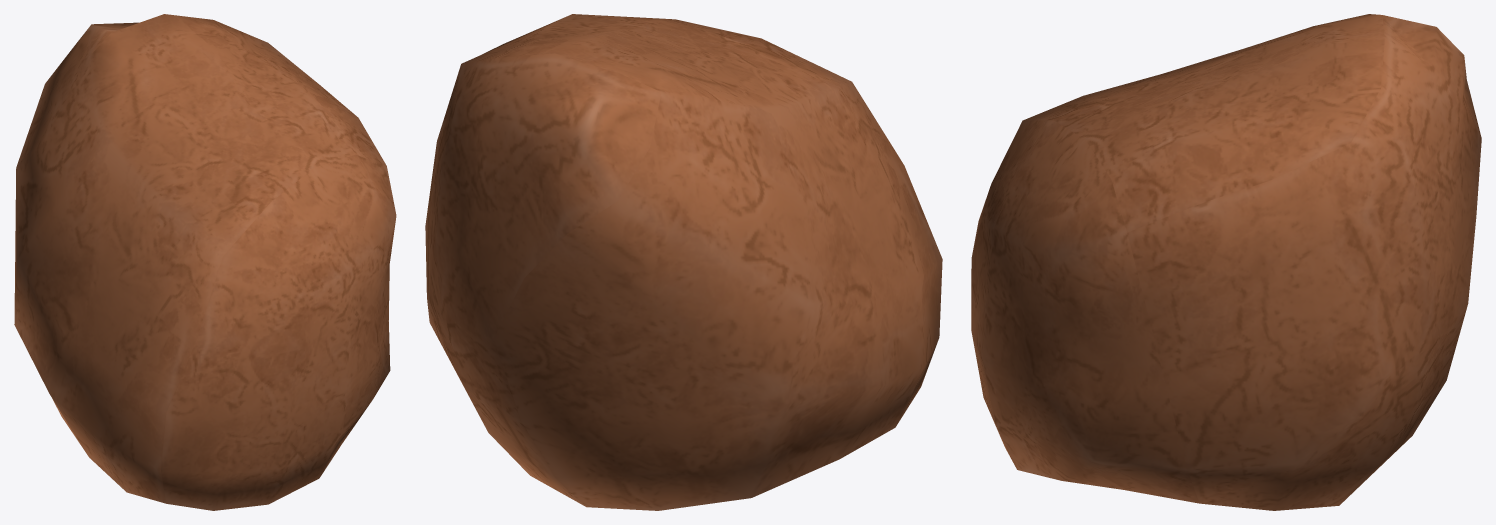
Rendered from ENV2110021.fbx.
The picture shows the model from 3 angles, left to right: view 1: azimuth 30°, elevation 25°; view 2: azimuth 150°, elevation 25°; view 3: azimuth 270°, elevation 25°; orthographic projection. The views are drawn at different scales.
Visible parts, largest first — view 1: smENV2110021; view 2: smENV2110021; view 3: smENV2110021.
Boxes of the visible parts, x1=… form: smENV2110021: x1=14, y1=14, x2=396, y2=510; smENV2110021: x1=425, y1=14, x2=942, y2=510; smENV2110021: x1=971, y1=14, x2=1481, y2=510.
Bounding box in the file's own units: 129 × 143 × 147.
1 material, 1 textured.
